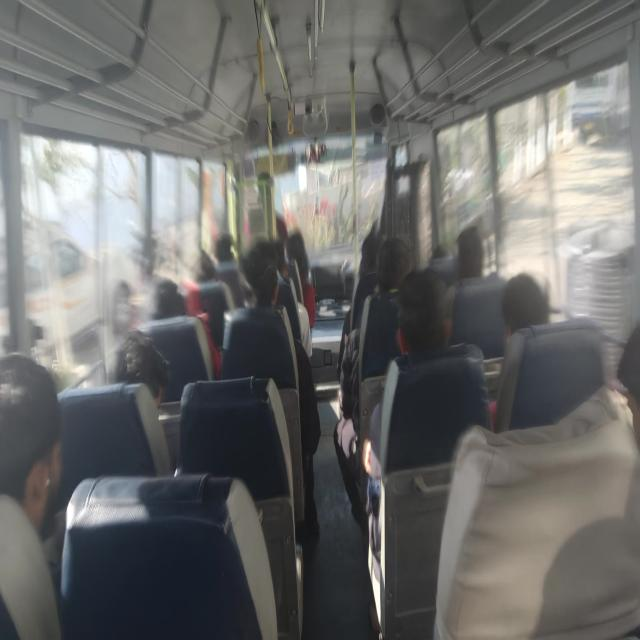person: (0, 389, 76, 569), (392, 274, 468, 376), (601, 314, 640, 482), (108, 323, 161, 406), (488, 268, 541, 340), (141, 271, 190, 335), (245, 241, 281, 299), (200, 224, 242, 269), (448, 222, 483, 274), (377, 245, 413, 288), (358, 234, 390, 272), (190, 244, 216, 287), (256, 231, 286, 265), (287, 233, 309, 266), (432, 239, 448, 264)
